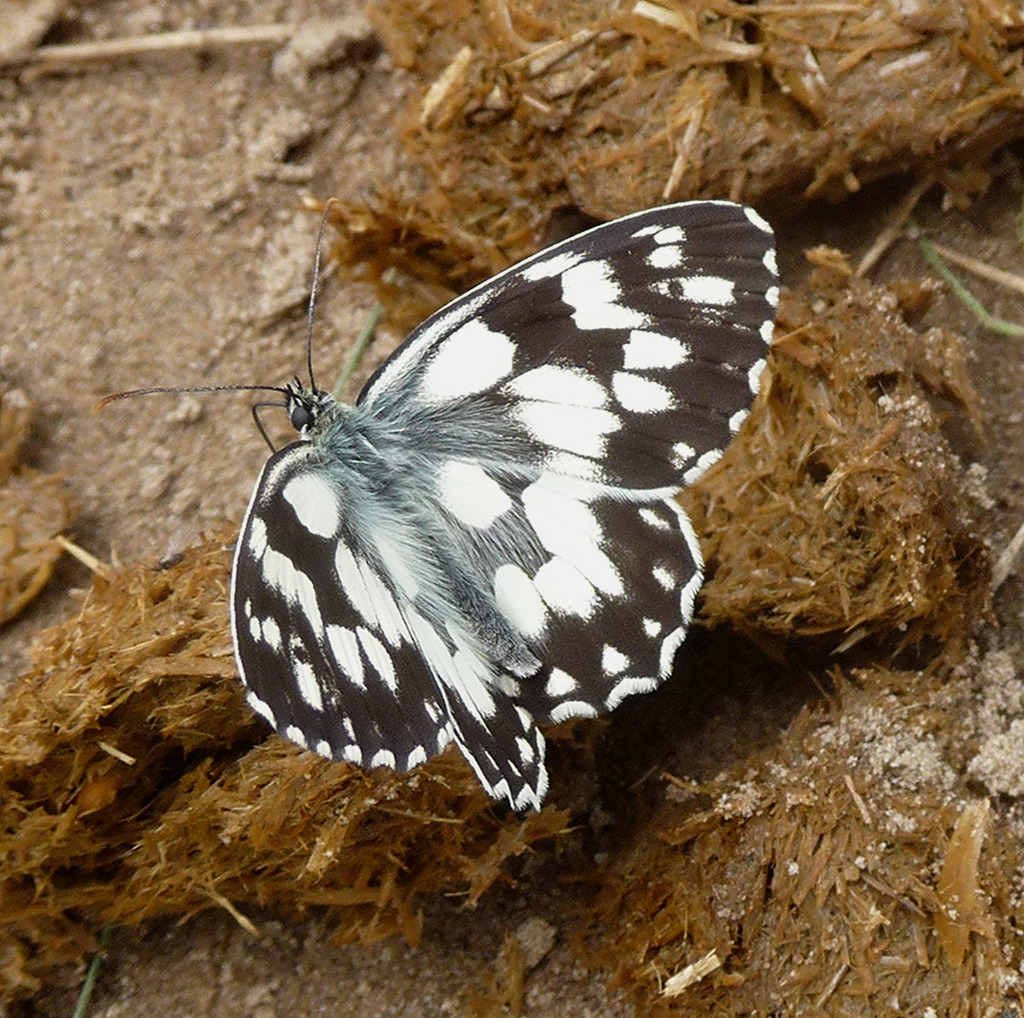Butterfly: (174, 174, 822, 839)
